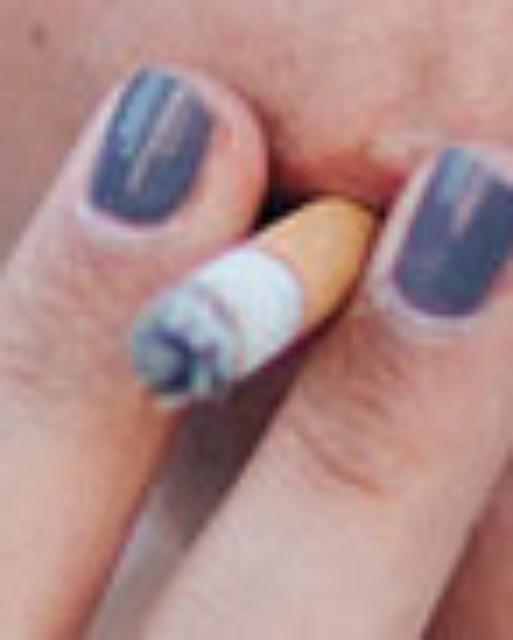Smoking: (130, 192, 381, 404)
